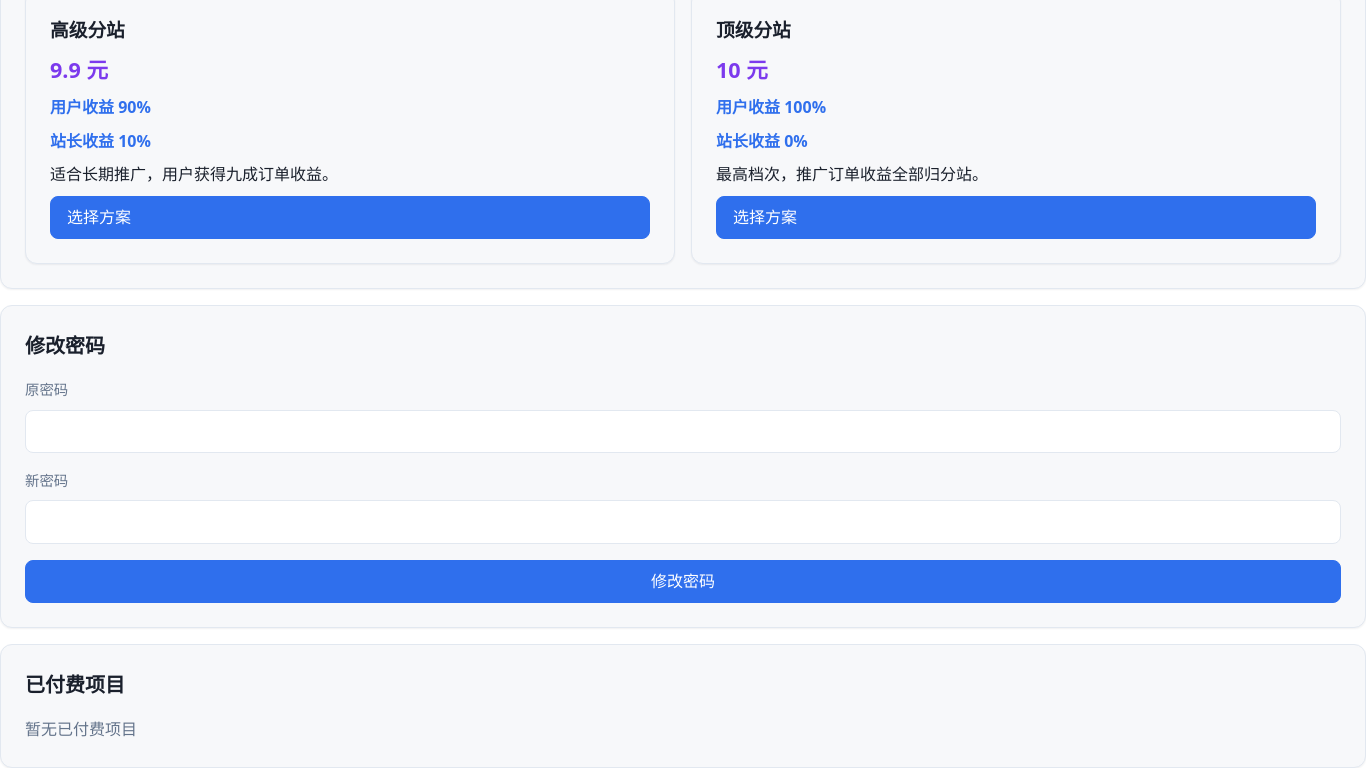
Test: AccountPage › clears the revoked session and shows a notice after password change
(page scrolled)
Type "old-password-123" into the password field labelled "原密码" at (683, 431), box [25,410,1341,453]
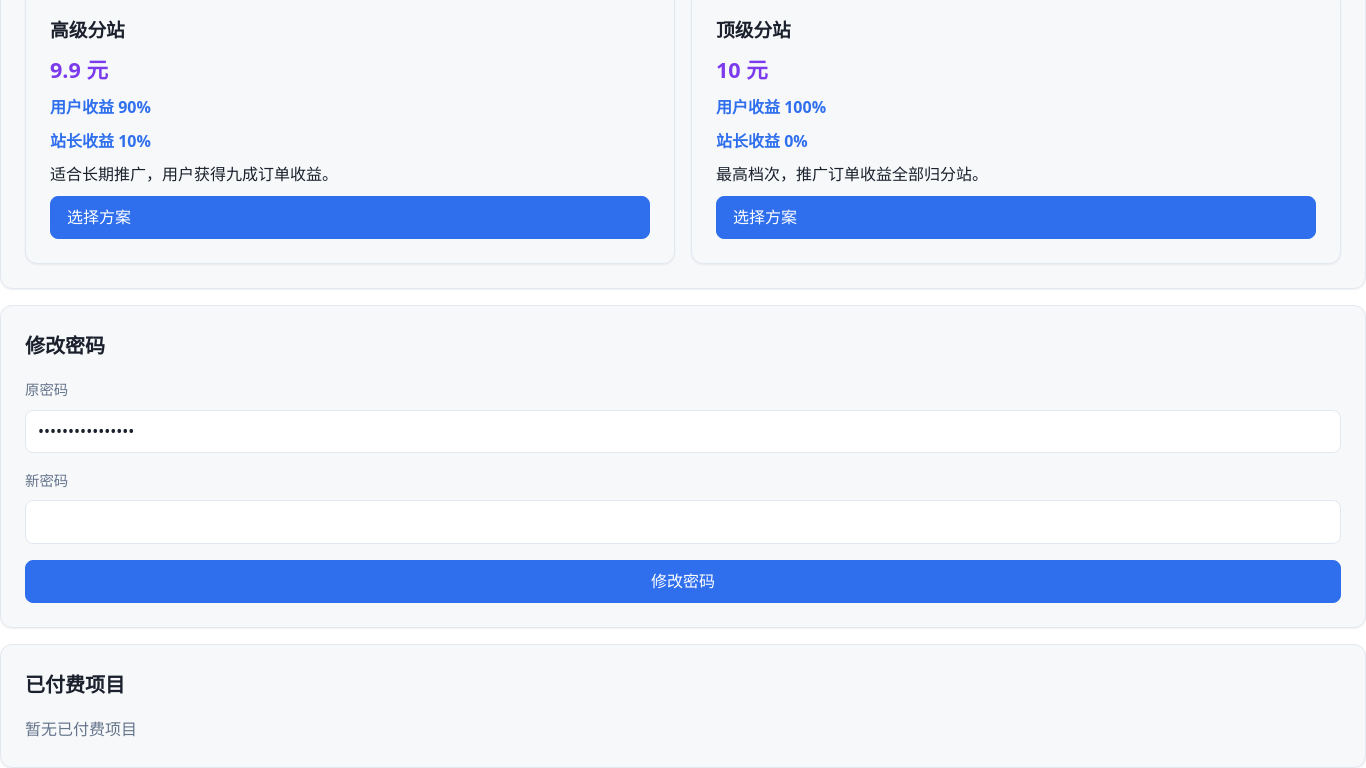
Type "new-password-123" into the password field labelled "新密码" at (683, 522), box [25,500,1341,544]
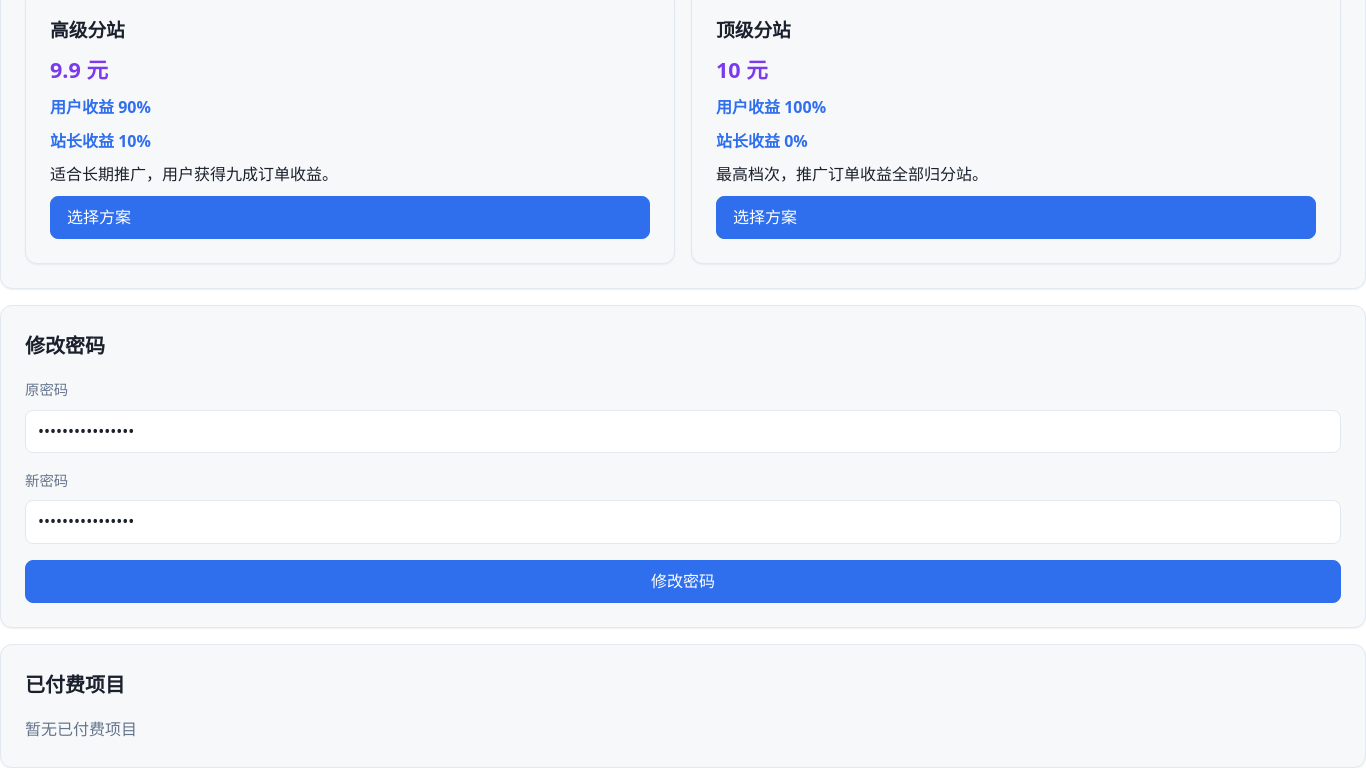
Click the button "修改密码" at (683, 582), box [25,560,1341,603]
(page scrolled)
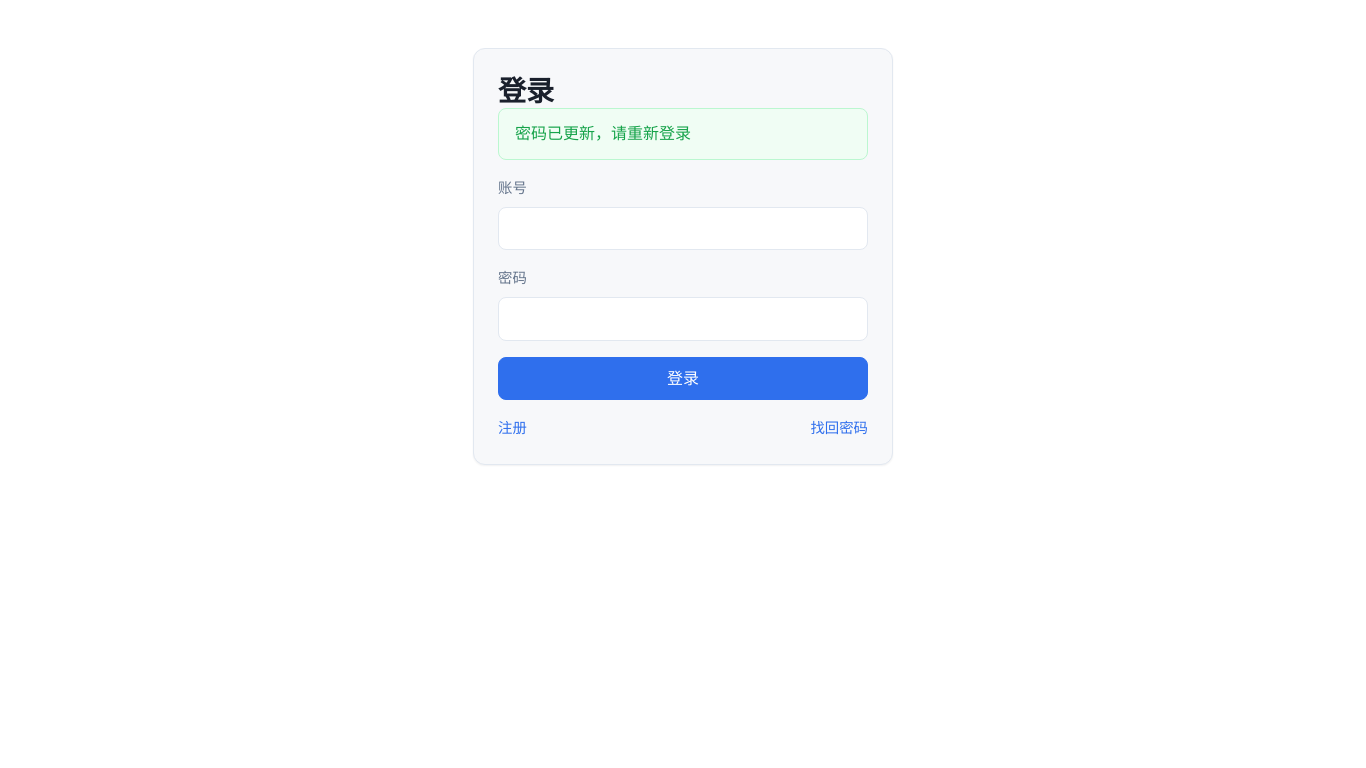
Expected: the text "密码已更新，请重新登录" is shown, [498,108,868,160]
Expected: the heading "登录" is shown, [498,71,554,109]
